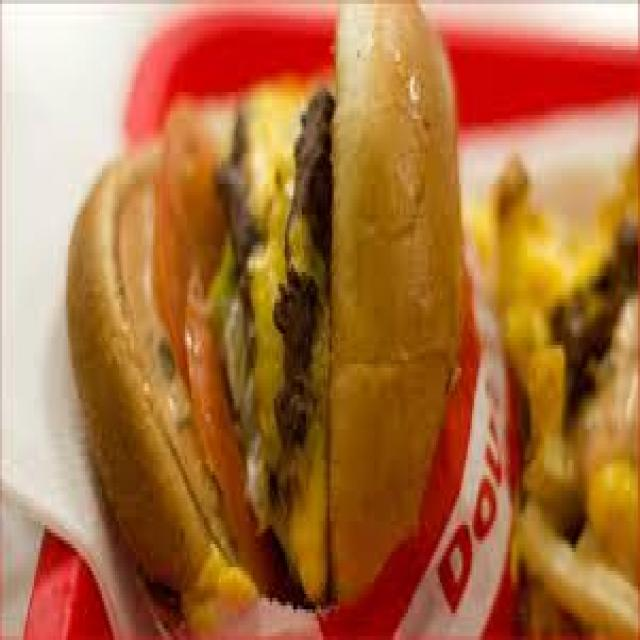Burger: (46, 3, 472, 640)
French Fries: (478, 130, 638, 636)
